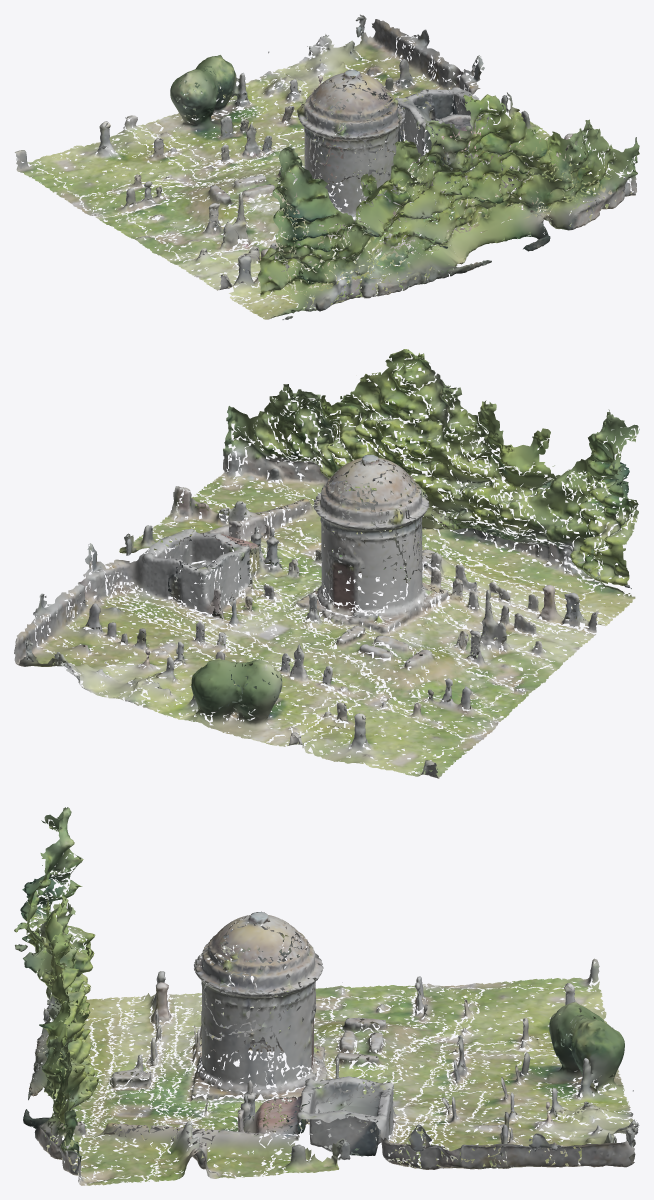
The model's file is cluny.glb.
3 renders of one model, top to bottom at view 1: azimuth 30°, elevation 25°; view 2: azimuth 150°, elevation 25°; view 3: azimuth 270°, elevation 25°, orthographic. The views are drawn at different scales.
Parts seen in each view (by area): view 1: Object_4, Object_5, Object_2, Object_12, Object_9, Object_3, Object_15, Object_8, Object_13, Object_14, Object_11, Object_17 (+6 smaller); view 2: Object_5, Object_13, Object_11, Object_2, Object_9, Object_8, Object_10, Object_3, Object_4, Object_14, Object_6, Object_12 (+6 smaller); view 3: Object_13, Object_16, Object_2, Object_6, Object_12, Object_9, Object_8, Object_7, Object_10, Object_11, Object_14, Object_3 (+6 smaller).
Part boxes in pixels (x1,y1,x2,y2): Object_4: (272,122,586,310); Object_5: (219,112,531,311); Object_2: (15,150,627,319); Object_12: (149,64,334,231); Object_9: (27,72,475,290); Object_3: (230,124,635,311); Object_15: (244,94,522,319); Object_8: (280,75,404,264); Object_13: (108,29,472,205); Object_14: (255,34,639,273); Object_11: (123,57,483,251); Object_17: (16,14,479,223); Object_5: (346,373,635,632); Object_13: (33,570,471,753); Object_11: (92,484,517,746); Object_2: (196,440,638,778); Object_9: (158,457,587,776); Object_8: (313,459,511,620); Object_10: (110,531,411,745); Object_3: (199,390,638,625); Object_4: (286,387,639,598); Object_14: (60,349,449,705); Object_6: (152,424,638,737); Object_12: (142,643,480,742); Object_13: (386,976,637,1169); Object_16: (26,882,629,1181); Object_2: (46,910,599,1181); Object_6: (20,814,481,1180); Object_12: (322,1002,630,1122); Object_9: (125,912,607,1156); Object_8: (176,915,323,1097); Object_7: (134,996,332,1150); Object_10: (259,1018,553,1176); Object_11: (251,926,555,1168); Object_14: (27,904,639,1185); Object_3: (32,880,164,1185).
Bounding box in the file's own units: 31.13 × 13.08 × 33.95.
